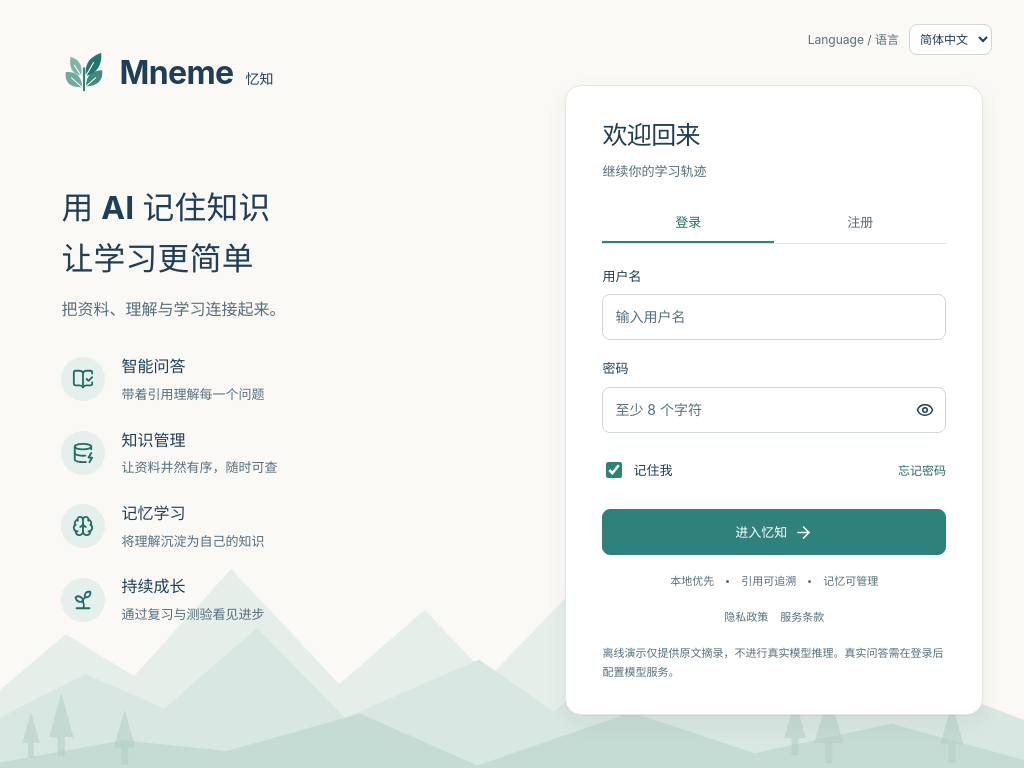
Test case: AuthPage › shows a login failure and restores the submit control
Type "learner" into the field labelled "用户名" at (774, 317), box [602,294,946,340]
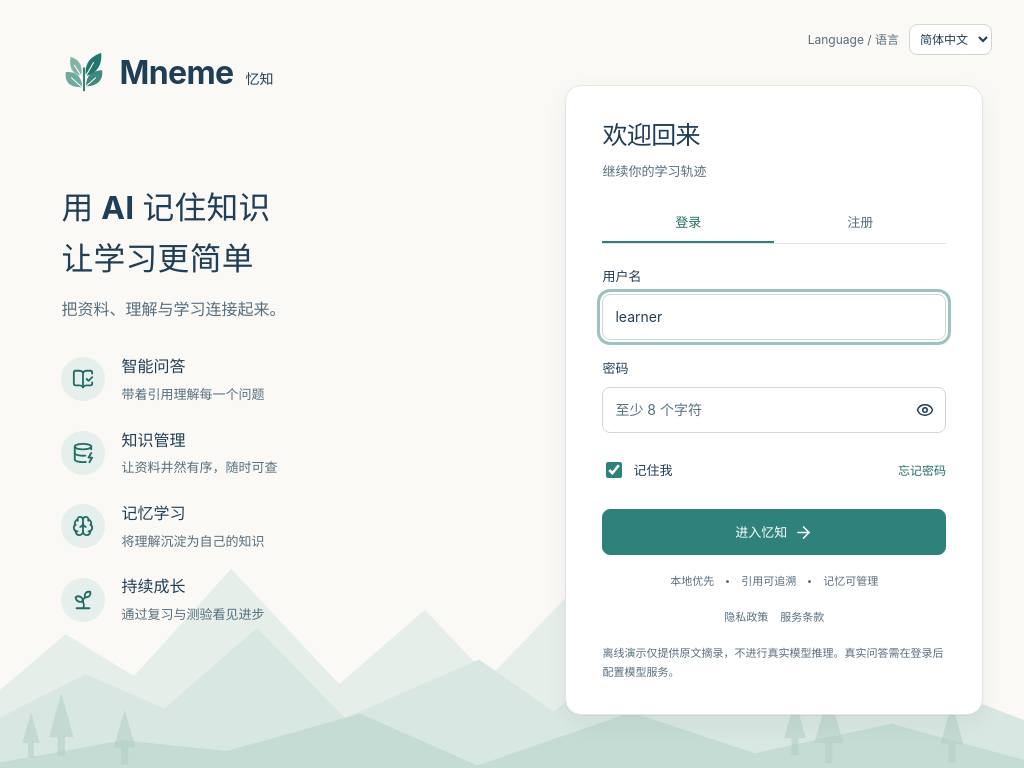
Type "password1" into the password field labelled "密码" at (774, 410), box [602,387,946,433]
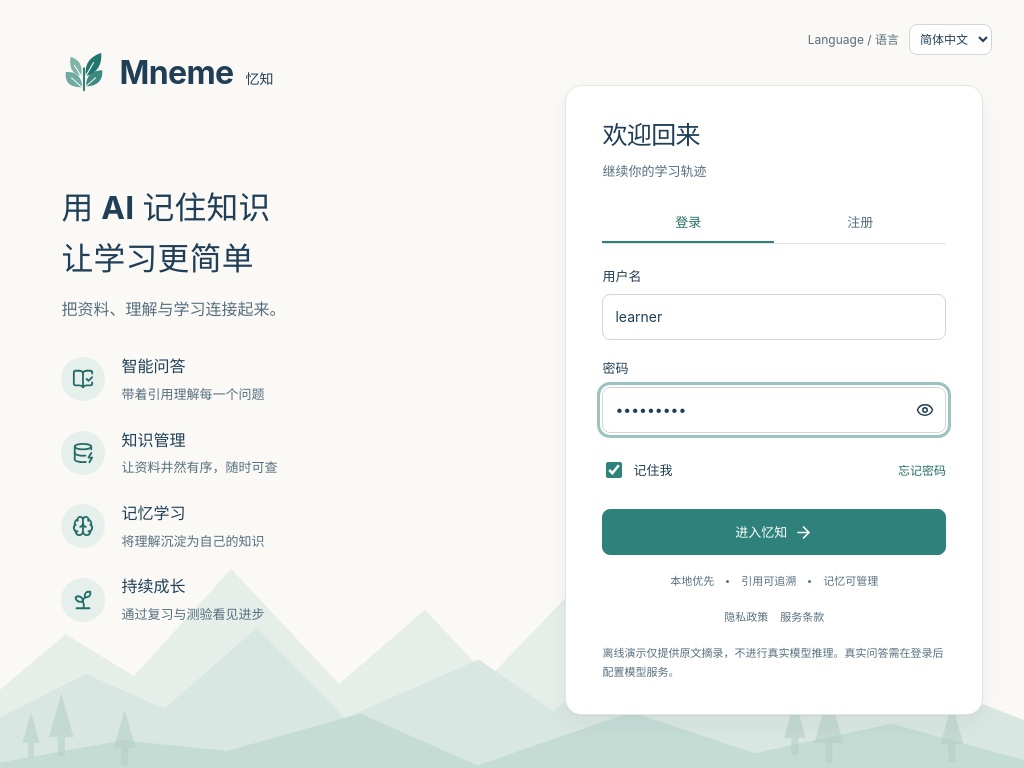
Click the button "进入忆知" at (774, 532), box [602,509,946,555]
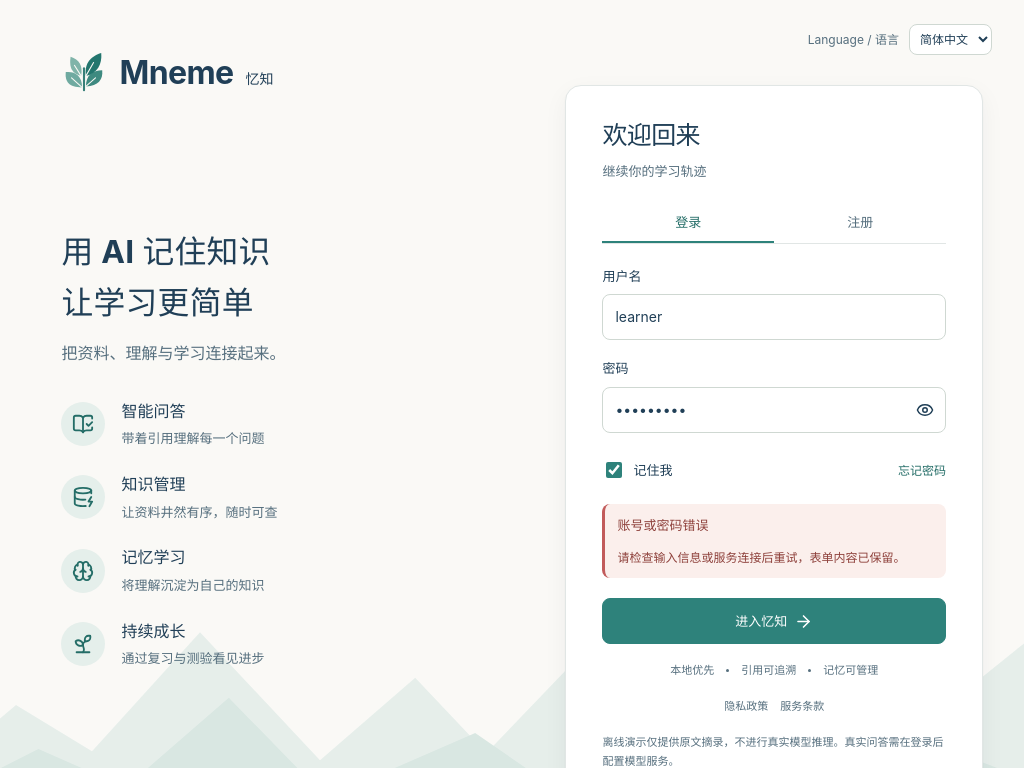
Expected: the button "进入忆知" is enabled, [602,598,946,644]
Now the message shows "账号或密码错误", box [617,517,708,533]
